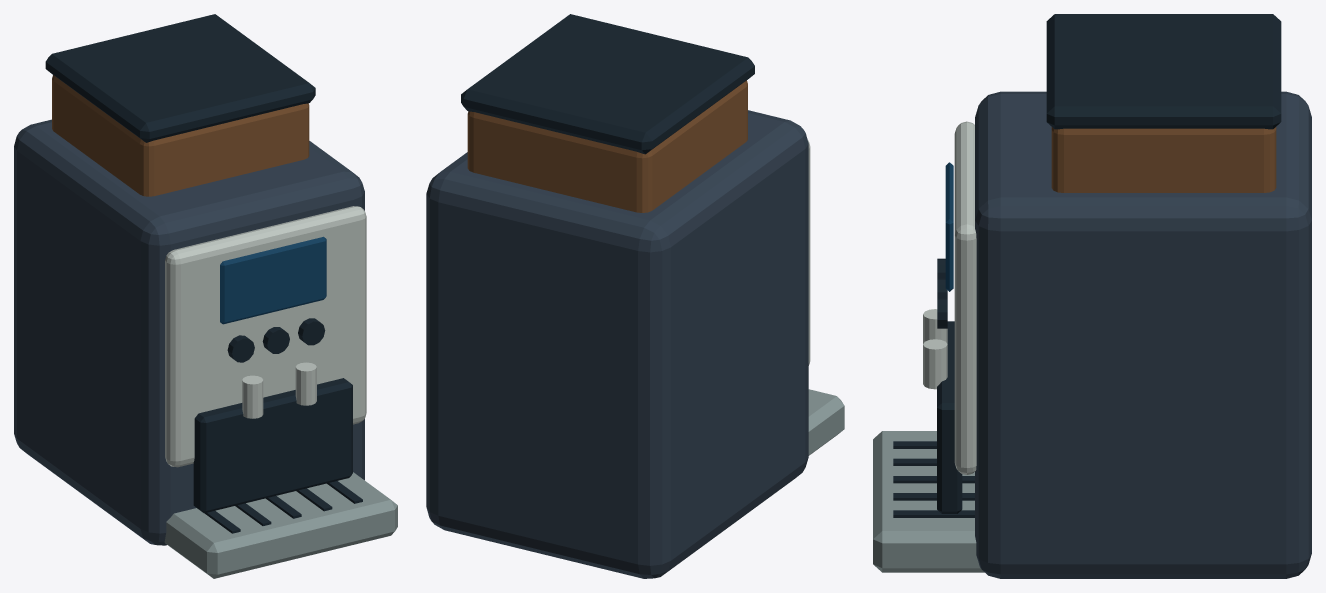
Rendered from coffee_machine.glb.
3 renders of one model, left to right at view 1: azimuth 30°, elevation 25°; view 2: azimuth 150°, elevation 25°; view 3: azimuth 270°, elevation 25°, orthographic. The views are drawn at different scales.
Visible parts, largest first — view 1: coffee_machine__metal, coffee_machine__black, coffee_machine__steel, coffee_machine__oak_dark, coffee_machine__metal_light, coffee_machine__screen; view 2: coffee_machine__metal, coffee_machine__black, coffee_machine__oak_dark, coffee_machine__metal_light, coffee_machine__steel; view 3: coffee_machine__metal, coffee_machine__black, coffee_machine__oak_dark, coffee_machine__metal_light, coffee_machine__steel, coffee_machine__screen.
Part boxes in pixels (x1,y1,x2,y2): coffee_machine__metal: (14,119,364,545); coffee_machine__black: (45,14,362,533); coffee_machine__steel: (165,206,366,467); coffee_machine__oak_dark: (52,75,309,196); coffee_machine__metal_light: (164,472,397,578); coffee_machine__screen: (220,236,326,324); coffee_machine__metal: (426,110,808,578); coffee_machine__black: (461,14,754,154); coffee_machine__oak_dark: (467,80,747,212); coffee_machine__metal_light: (808,389,844,455); coffee_machine__steel: (807,140,810,365); coffee_machine__metal: (975,91,1311,578); coffee_machine__black: (893,14,1281,517); coffee_machine__oak_dark: (1051,127,1276,192); coffee_machine__metal_light: (873,431,984,572); coffee_machine__steel: (923,121,976,474); coffee_machine__screen: (945,162,953,291).
Bounding box in the file's own units: 0.29 × 0.5025 × 0.43.
